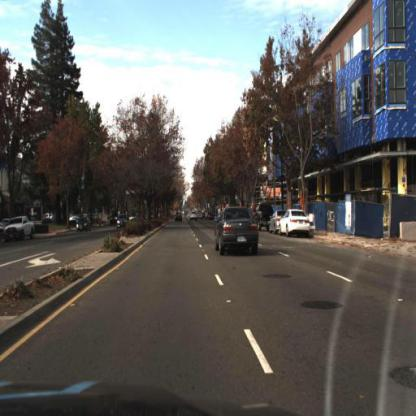car: (214, 205, 261, 258), (279, 207, 314, 239), (5, 214, 38, 245), (279, 206, 310, 238), (256, 202, 273, 237), (268, 210, 287, 236), (76, 215, 92, 235), (115, 212, 130, 232), (173, 210, 187, 228), (189, 209, 201, 226)
